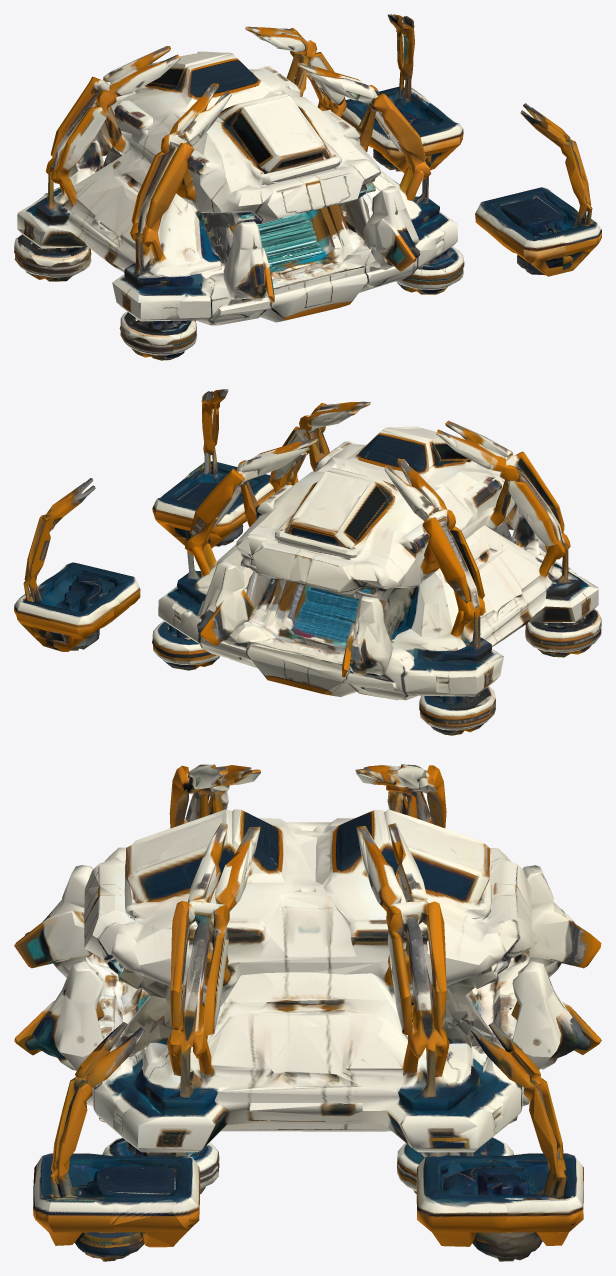
The model's file is pactworks-carryall.glb.
The picture shows the model from 3 angles, top to bottom: view 1: azimuth 30°, elevation 25°; view 2: azimuth 150°, elevation 25°; view 3: azimuth 270°, elevation 25°; orthographic projection. The views are drawn at different scales.
Visible parts, largest first — view 1: Hull; view 2: Hull; view 3: Hull.
Part boxes in pixels (x1,y1,x2,y2): Hull: (14,14,601,360); Hull: (14,389,601,735); Hull: (14,764,601,1261).
Bounding box in the file's own units: 2 × 0.9653 × 1.69.
1 material, 1 textured.
